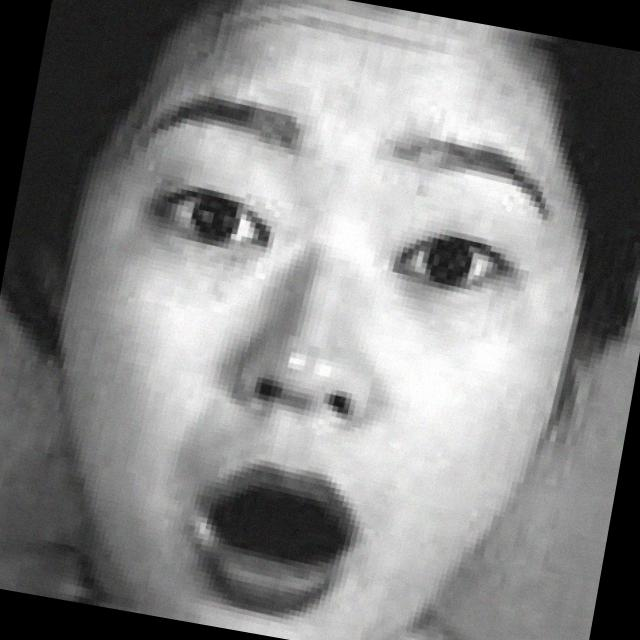surprise: (30, 0, 626, 640)
